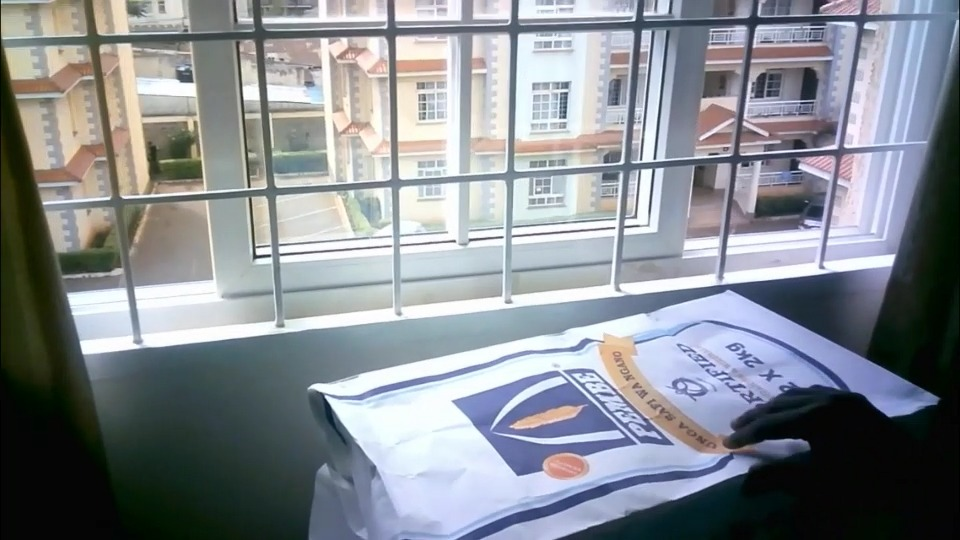wheat_flour_blue_label: (306, 293, 941, 537)
